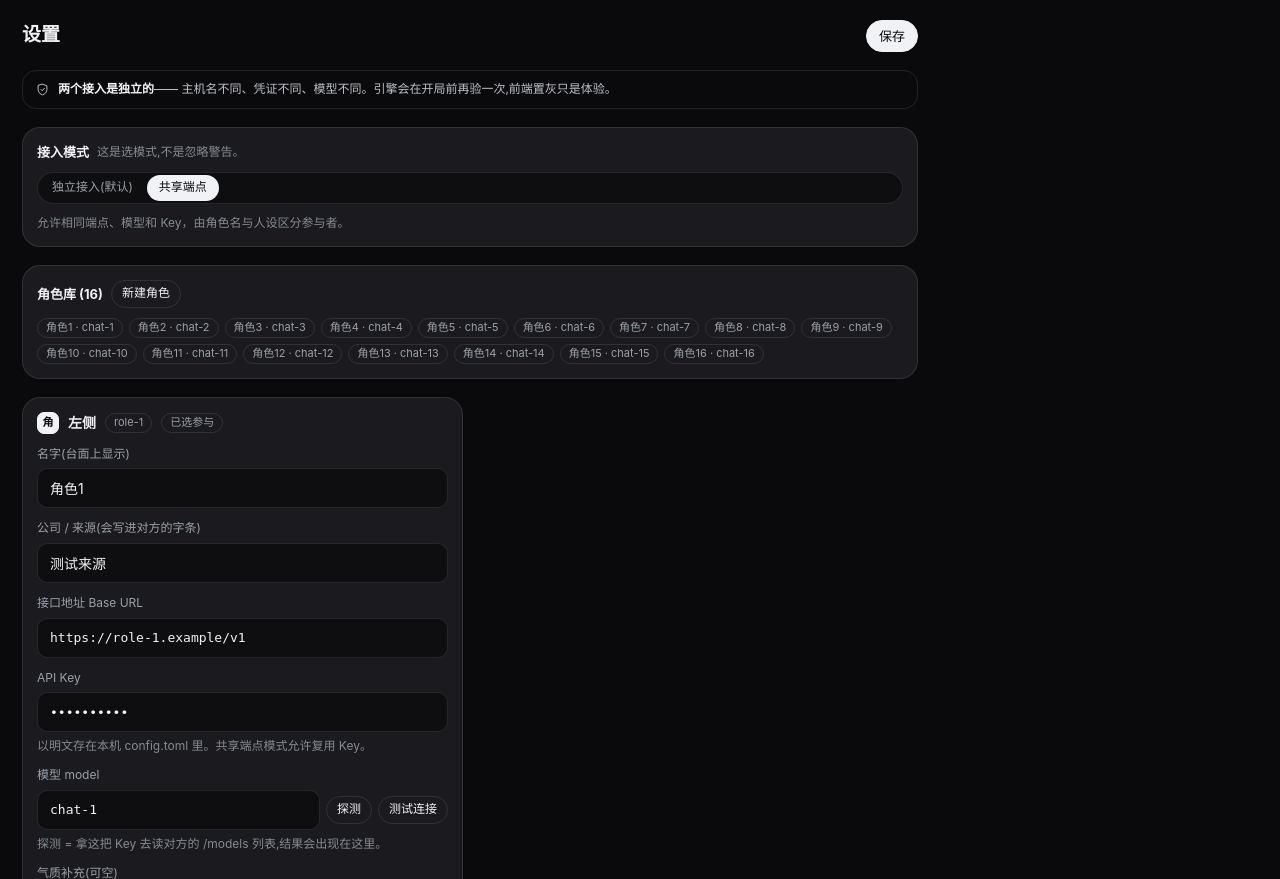
Setup 角色库与连接 › 选择第16张卡测试连接使用该卡且结果显示在该卡
What coordinates should you click on to do the following:
click the button "角色16 · chat-16"
I would click on:
 (714, 354)
Its box is [664, 344, 764, 364].
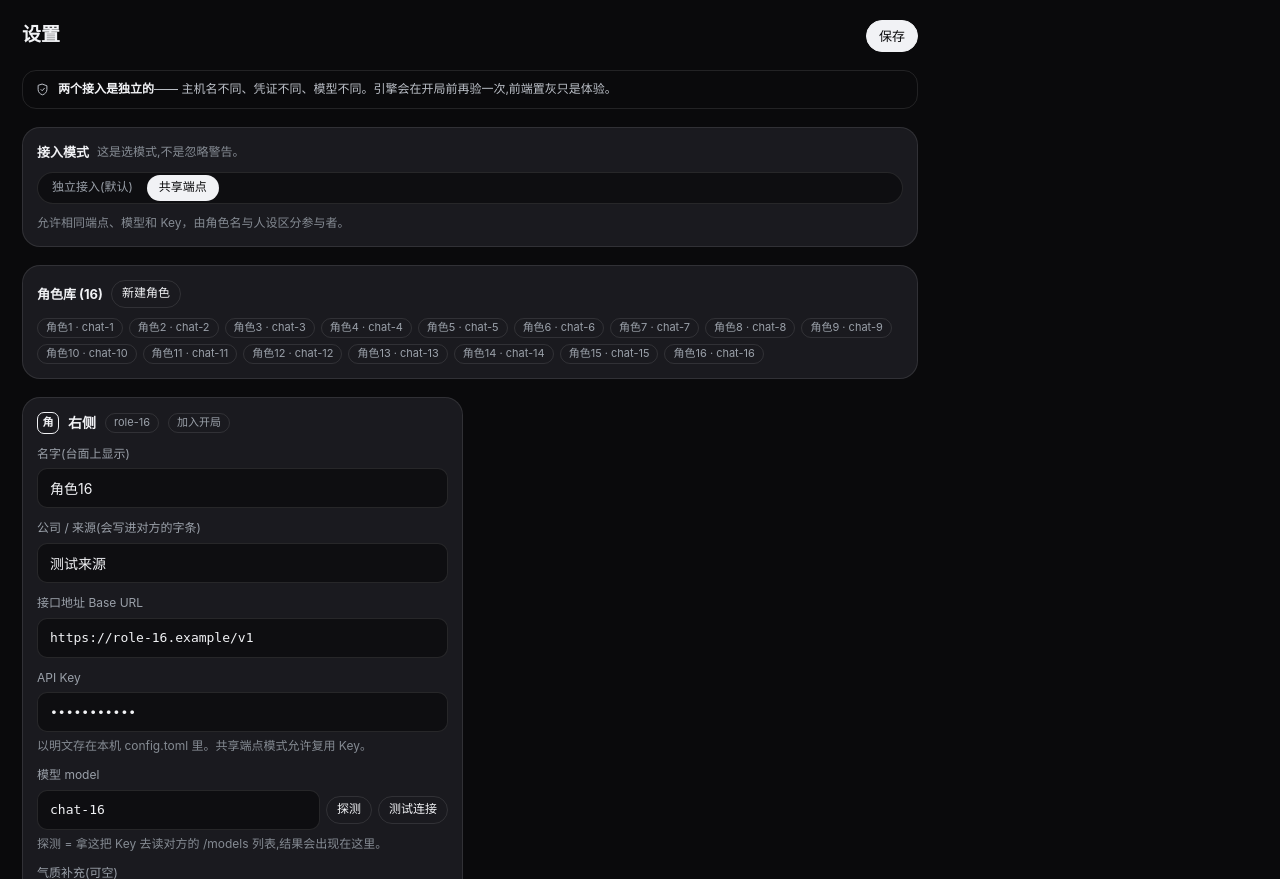
What coordinates should you click on to do the following:
click the button "测试连接"
I would click on:
 (413, 810)
Its box is [378, 796, 448, 824].
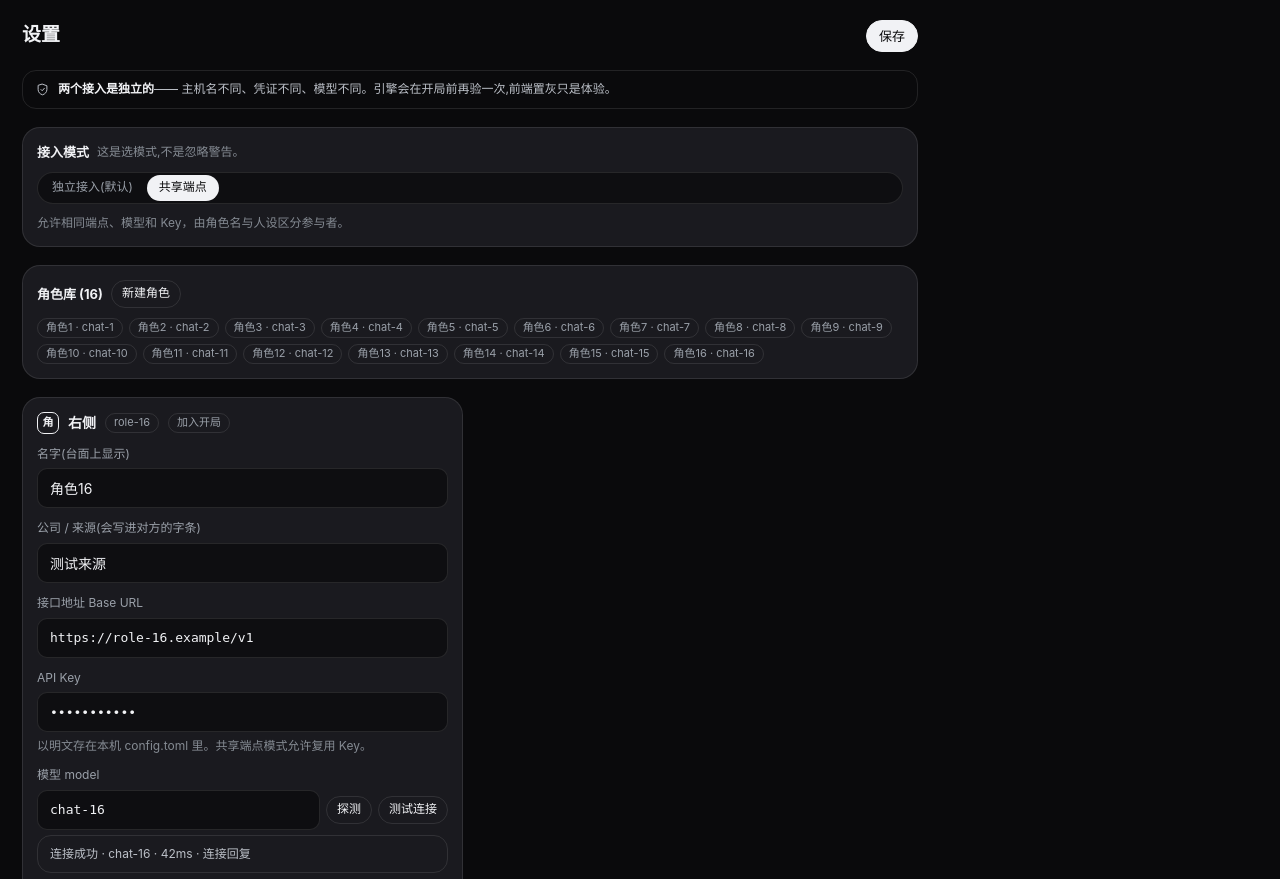
Result: the text "连接成功 · chat-16 · 42ms · 连接回复" is shown at [37, 835, 448, 873]
